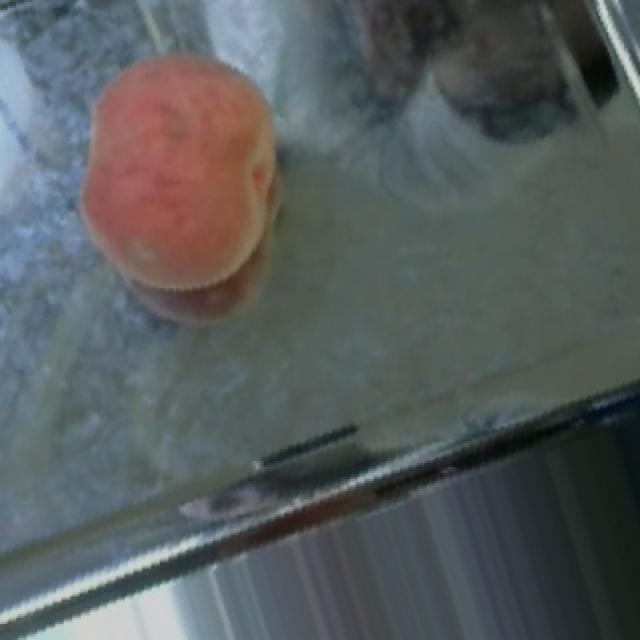Fruit: (53, 24, 304, 318)
